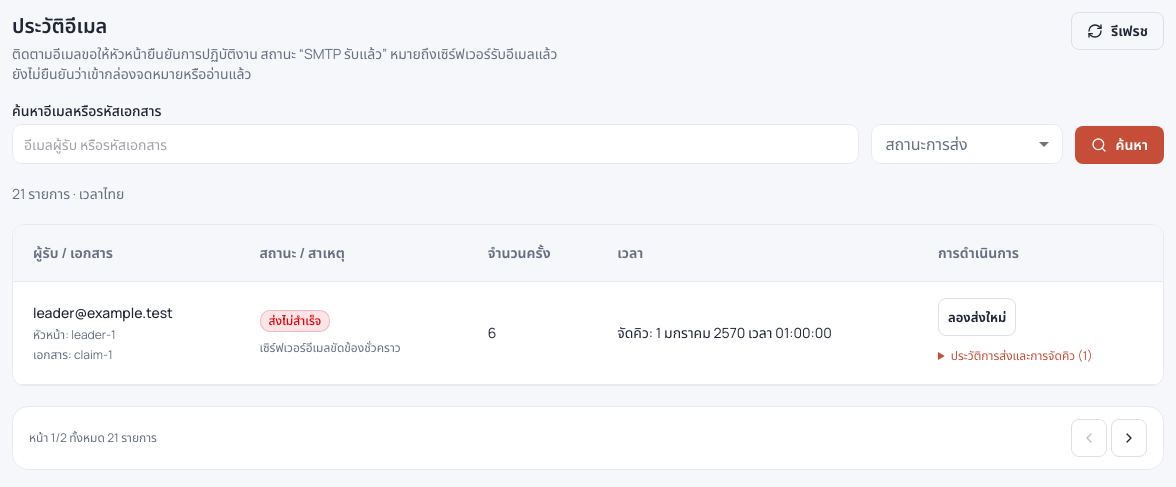
Test: queues one manual retry while pending and refreshes history after success
expect the element named "ประวัติการส่งอีเมล" is shown: met, box [12, 224, 1164, 386]
expect the button "รีเฟรช" is enabled: met, box [1071, 12, 1164, 50]
Click the button "ลองส่งใหม่". click: (977, 317)
box: [938, 298, 1016, 336]
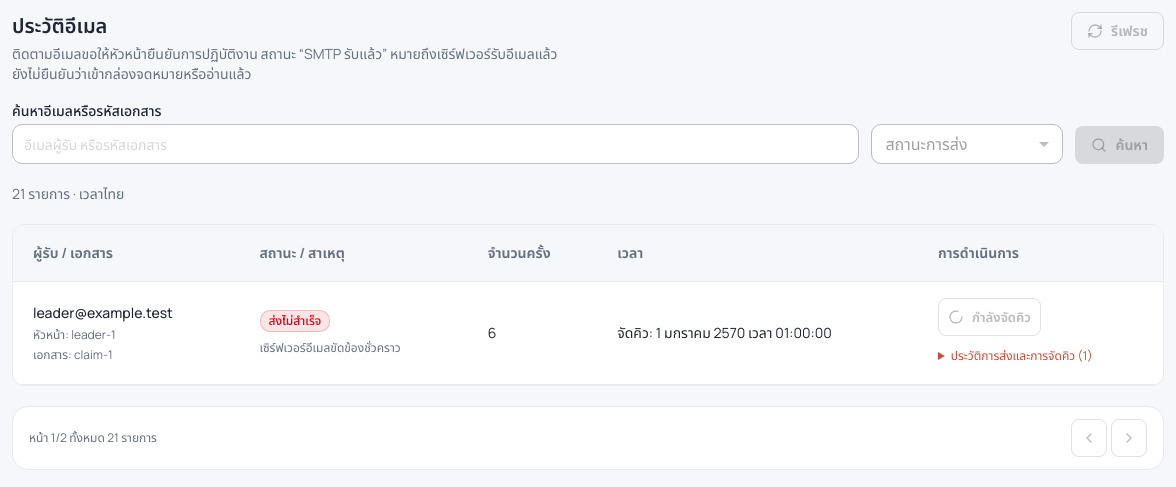
expect the button with aria-label "ลองส่งใหม่" is disabled: met
Click the button with aria-label "ลองส่งใหม่". click: (989, 317)
box: [938, 298, 1041, 336]
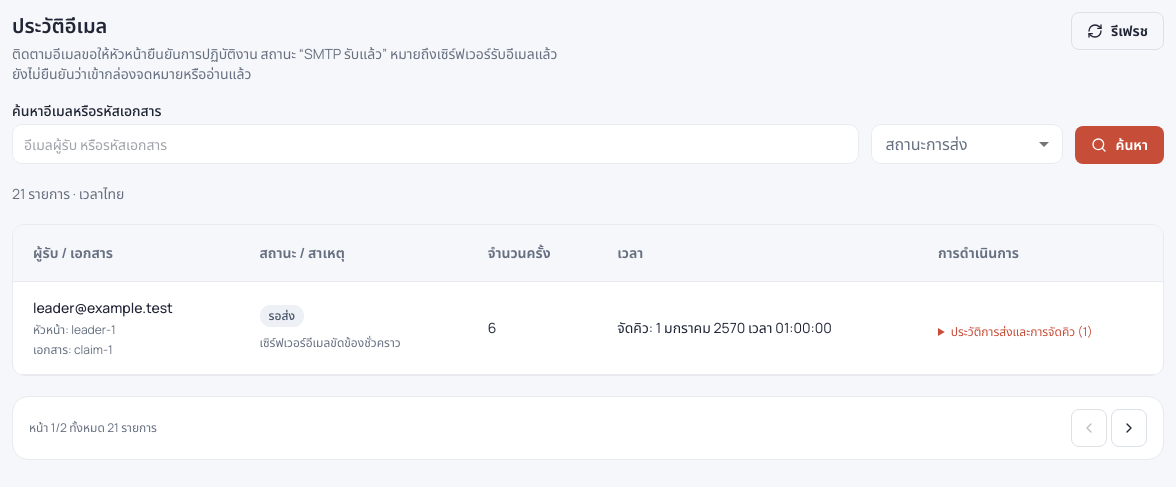
expect the text "รอส่ง" is shown: met, box [260, 305, 304, 327]
